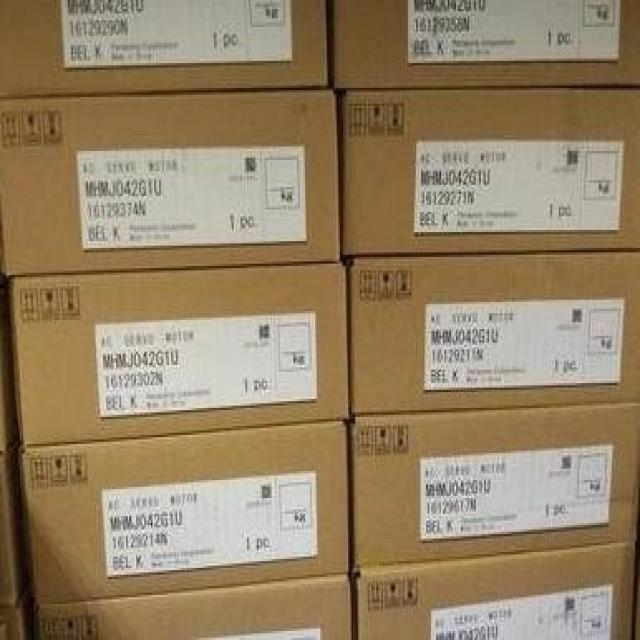box: (0, 90, 340, 277), (7, 268, 347, 442), (20, 424, 350, 599), (342, 90, 638, 255), (353, 406, 640, 568), (350, 255, 638, 415), (0, 0, 327, 97), (333, 2, 640, 88), (358, 543, 635, 638), (36, 579, 353, 640), (0, 446, 28, 606), (0, 315, 10, 451), (2, 599, 33, 640)
